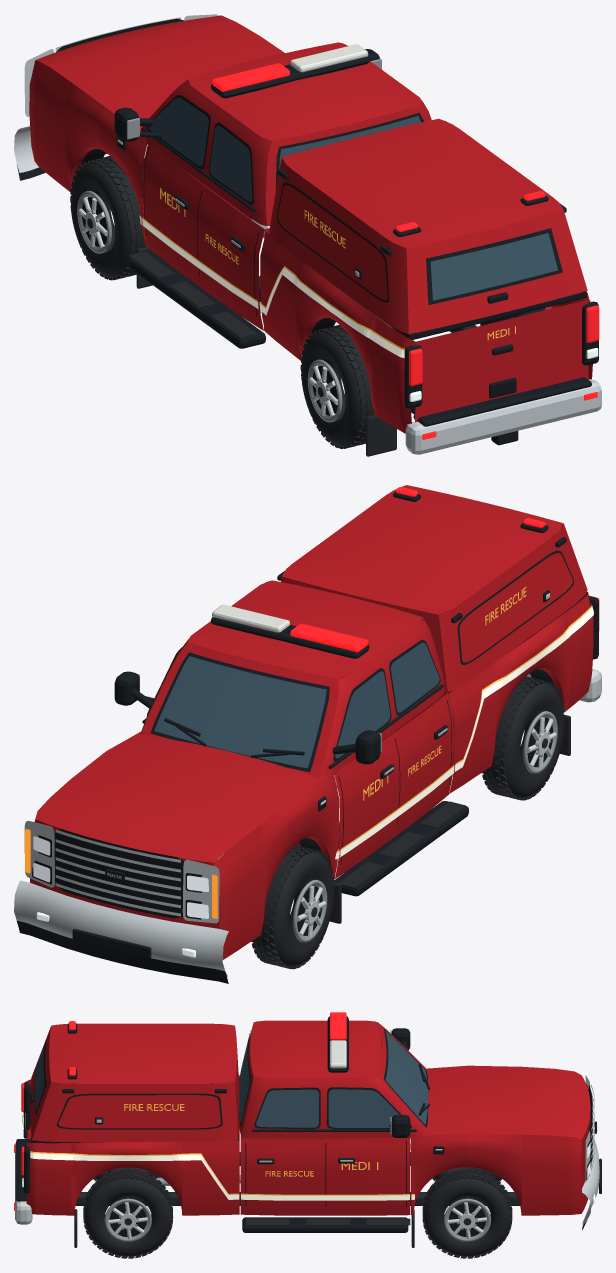
The model's file is medi-pickup.glb.
The picture shows the model from 3 angles, top to bottom: view 1: azimuth 30°, elevation 25°; view 2: azimuth 150°, elevation 25°; view 3: azimuth 270°, elevation 25°; orthographic projection. The views are drawn at different scales.
Parts seen in each view (by area): view 1: MediPickup_Pickup_fire_red, MediPickup_Deep_black, MediPickup_Pickup_tinted_glass, MediPickup_Pickup_brightwork, Medi_Wheel_FL_Rubber, Medi_Wheel_RL_Rubber, MediPickup_Rubber, MediPickup_Pickup_retroreflective, MediPickup_Pickup_reflective_gold, LED lens cluster, LED lens cluster.002, Medi_Wheel_RL_Pickup_alloy (+3 smaller); view 2: MediPickup_Pickup_fire_red, MediPickup_Deep_black, MediPickup_Pickup_tinted_glass, MediPickup_Pickup_brightwork, Medi_Wheel_FL_Rubber, Medi_Wheel_RL_Rubber, MediPickup_Rubber, MediPickup_Pickup_retroreflective, MediPickup_Pickup_reflective_gold, LED lens cluster, LED lens cluster.002, Medi_Wheel_RL_Pickup_alloy (+3 smaller); view 3: MediPickup_Pickup_fire_red, MediPickup_Deep_black, MediPickup_Pickup_tinted_glass, Medi_Wheel_FR_Rubber, Medi_Wheel_RR_Rubber, MediPickup_Pickup_retroreflective, MediPickup_Pickup_brightwork, MediPickup_Rubber, MediPickup_Pickup_reflective_gold, MediPickup_Graphite, Medi_Wheel_FR_Pickup_alloy, Medi_Wheel_RR_Pickup_alloy (+6 smaller).
Part boxes in pixels (box(x1,y1,x2,y2)): MediPickup_Pickup_fire_red: box(29, 15, 592, 433); MediPickup_Deep_black: box(16, 18, 598, 445); MediPickup_Pickup_tinted_glass: box(148, 97, 557, 300); MediPickup_Pickup_brightwork: box(14, 14, 601, 454); Medi_Wheel_FL_Rubber: box(70, 156, 146, 280); Medi_Wheel_RL_Rubber: box(300, 324, 374, 448); MediPickup_Rubber: box(128, 246, 396, 456); MediPickup_Pickup_retroreflective: box(140, 217, 590, 358); MediPickup_Pickup_reflective_gold: box(139, 188, 591, 350); LED lens cluster: box(212, 63, 289, 91); LED lens cluster.002: box(290, 44, 368, 72); Medi_Wheel_RL_Pickup_alloy: box(307, 359, 342, 422); MediPickup_Pickup_fire_red: box(30, 485, 593, 959); MediPickup_Deep_black: box(17, 491, 598, 983); MediPickup_Pickup_tinted_glass: box(154, 642, 439, 768); MediPickup_Pickup_brightwork: box(14, 593, 601, 976); Medi_Wheel_FL_Rubber: box(251, 845, 334, 969); Medi_Wheel_RL_Rubber: box(482, 676, 564, 800); MediPickup_Rubber: box(329, 714, 570, 923); MediPickup_Pickup_retroreflective: box(335, 606, 593, 859); MediPickup_Pickup_reflective_gold: box(336, 587, 592, 852); LED lens cluster: box(290, 623, 368, 652); LED lens cluster.002: box(212, 604, 289, 632); Medi_Wheel_RL_Pickup_alloy: box(523, 711, 557, 773); MediPickup_Pickup_fire_red: box(26, 1020, 590, 1215); MediPickup_Deep_black: box(16, 1016, 601, 1232); MediPickup_Pickup_tinted_glass: box(35, 1031, 428, 1127); Medi_Wheel_FR_Rubber: box(422, 1169, 512, 1258); Medi_Wheel_RR_Rubber: box(83, 1169, 173, 1258); MediPickup_Pickup_retroreflective: box(30, 1152, 414, 1200); MediPickup_Pickup_brightwork: box(15, 1075, 599, 1225); MediPickup_Rubber: box(74, 1144, 414, 1247); MediPickup_Pickup_reflective_gold: box(25, 1104, 414, 1195); MediPickup_Graphite: box(75, 1152, 519, 1205); Medi_Wheel_FR_Pickup_alloy: box(444, 1198, 490, 1241); Medi_Wheel_RR_Pickup_alloy: box(104, 1198, 151, 1241).
Bounding box in the file's own units: 2.63 × 2.44 × 7.06.
